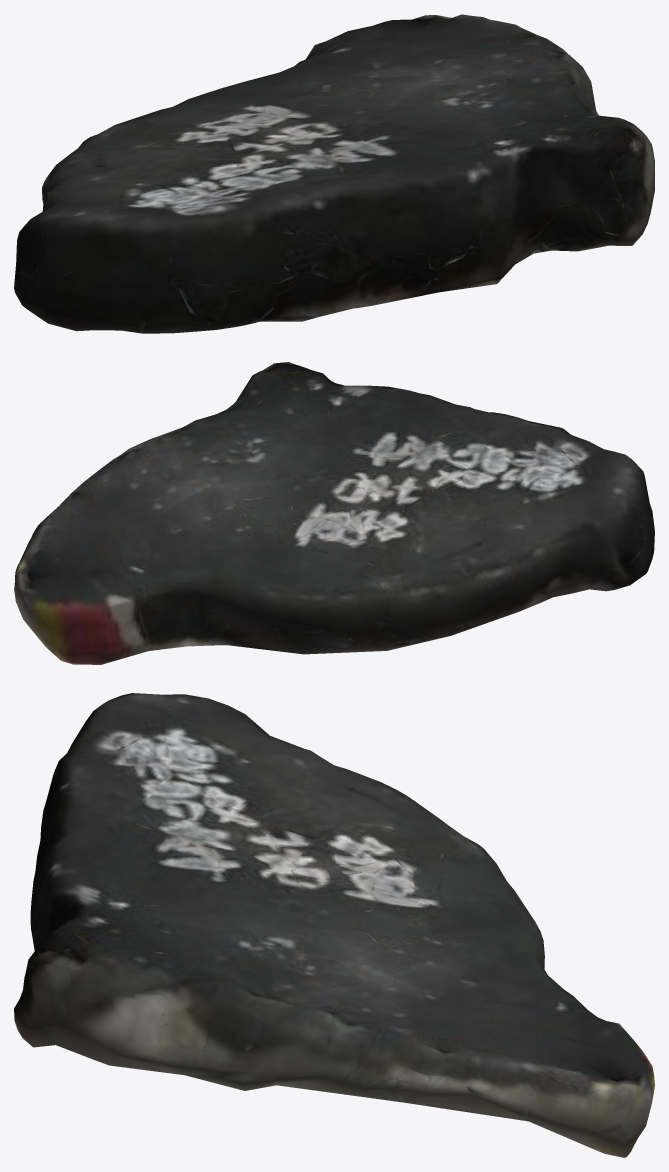
Rendered from hall.glb.
3 renders of one model, top to bottom at view 1: azimuth 30°, elevation 25°; view 2: azimuth 150°, elevation 25°; view 3: azimuth 270°, elevation 25°, orthographic. The views are drawn at different scales.
Bounding box in the file's own units: 0.7572 × 0.2309 × 0.6221.
1 material, 1 textured.
